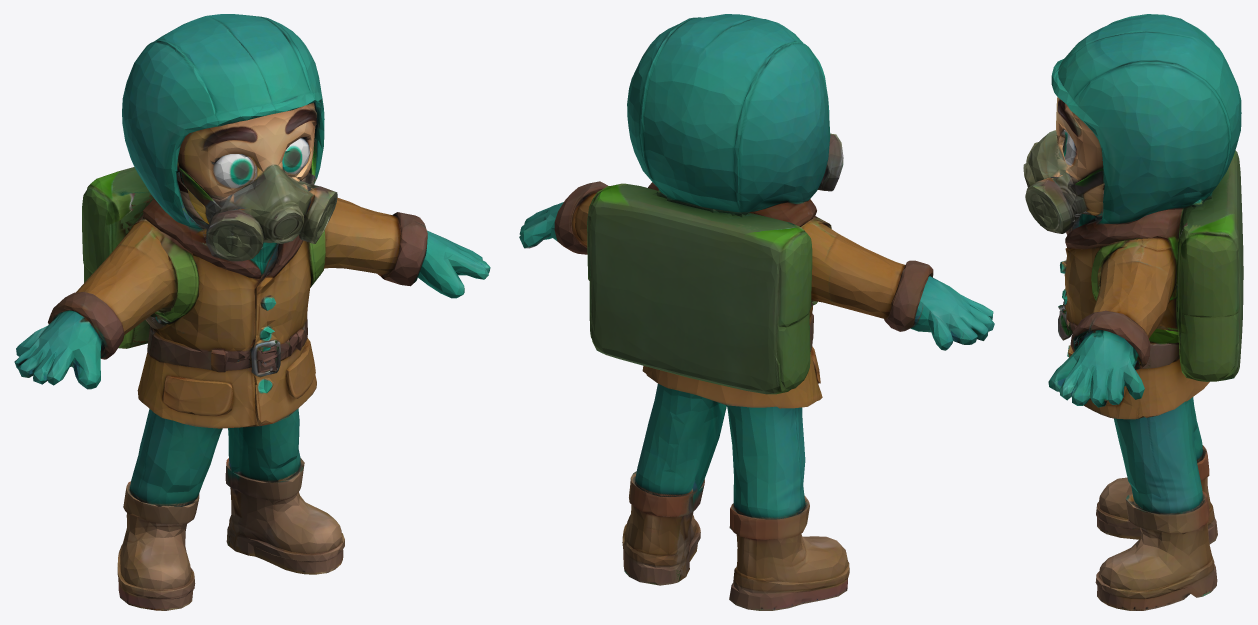
The model's file is darin-unrigged.fbx.
The picture shows the model from 3 angles, left to right: view 1: azimuth 30°, elevation 25°; view 2: azimuth 150°, elevation 25°; view 3: azimuth 270°, elevation 25°; orthographic projection. The views are drawn at different scales.
Visible parts, largest first — view 1: temp; view 2: temp; view 3: temp.
Boxes of the visible parts, x1,y1,x2,y2 form: temp: [14, 14, 490, 610]; temp: [519, 14, 994, 610]; temp: [1023, 14, 1243, 610].
Size of the model in its own units: 178 by 200 by 75.27.
Materials: 1 (1 with a texture image).
